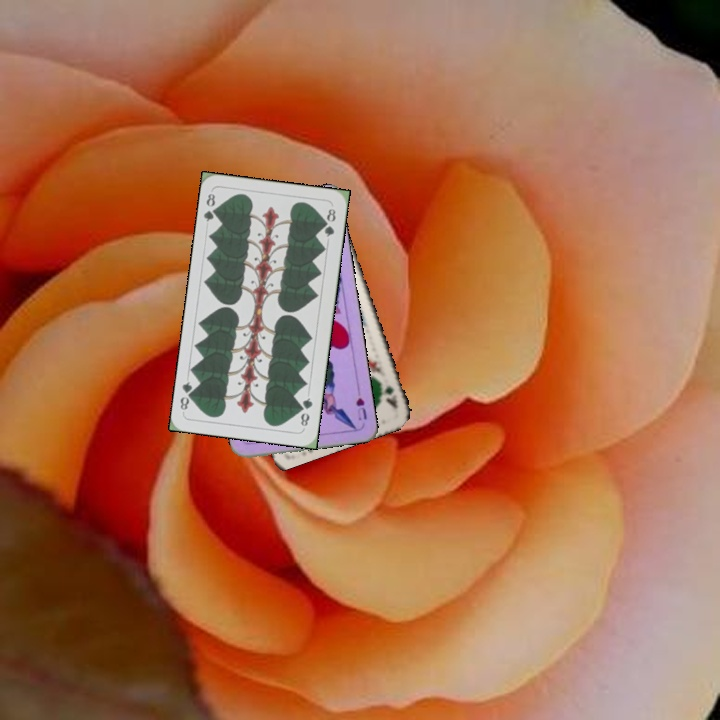G8: (200, 189, 221, 224), (296, 394, 315, 429)
GK: (375, 376, 400, 413)
HU: (352, 394, 369, 423)
